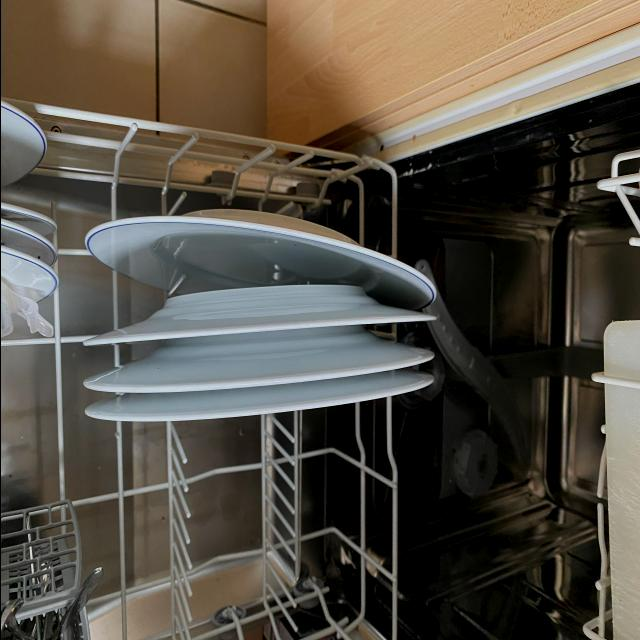empty_slot: (129, 424, 390, 639), (3, 316, 71, 503), (85, 161, 349, 201)
